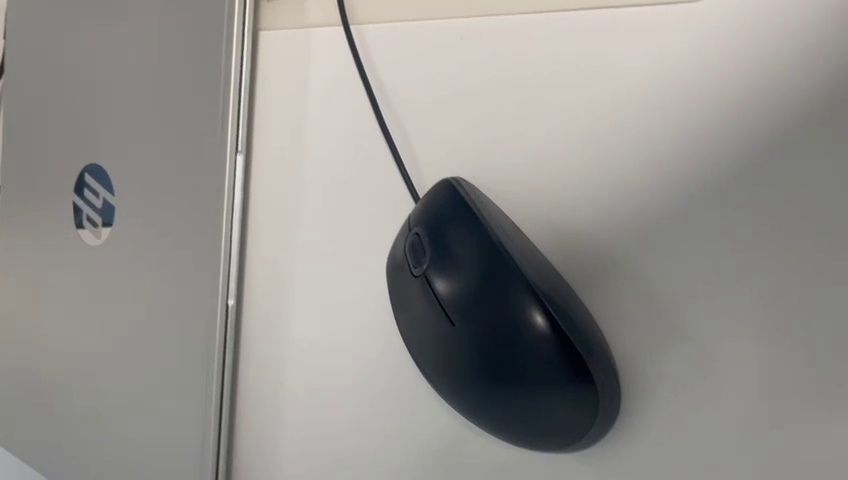objeto: (349, 172, 632, 462)
